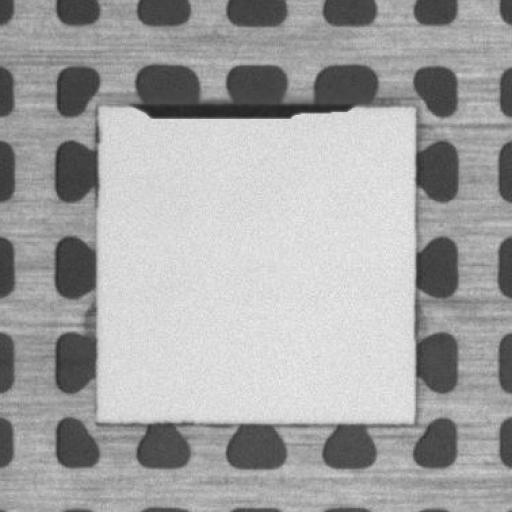DIE_BROKEN: (131, 94, 355, 122)
